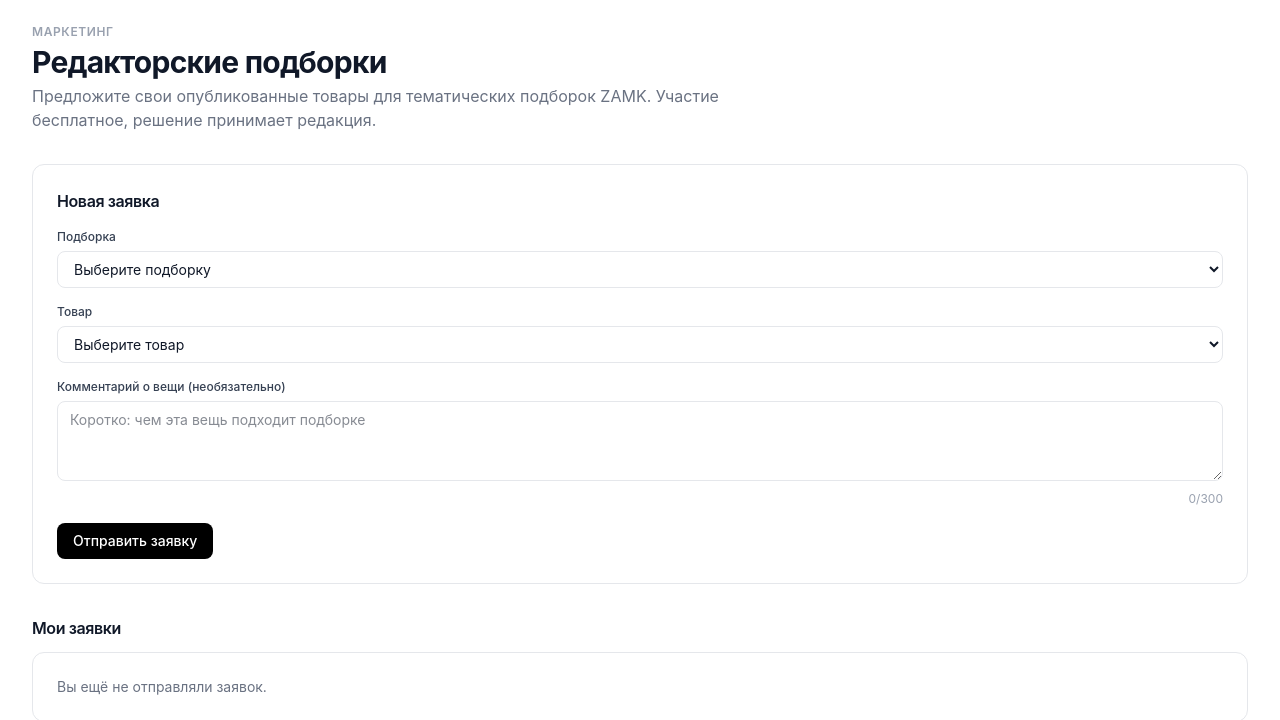
Scenario: SellerCollections › shows the server error (e.g. duplicate) and keeps the form
The width and height of the screenshot is (1280, 720).
Select "Лето" in the dropdown labelled "Подборка". click: (640, 270)
box: [57,251,1223,288]
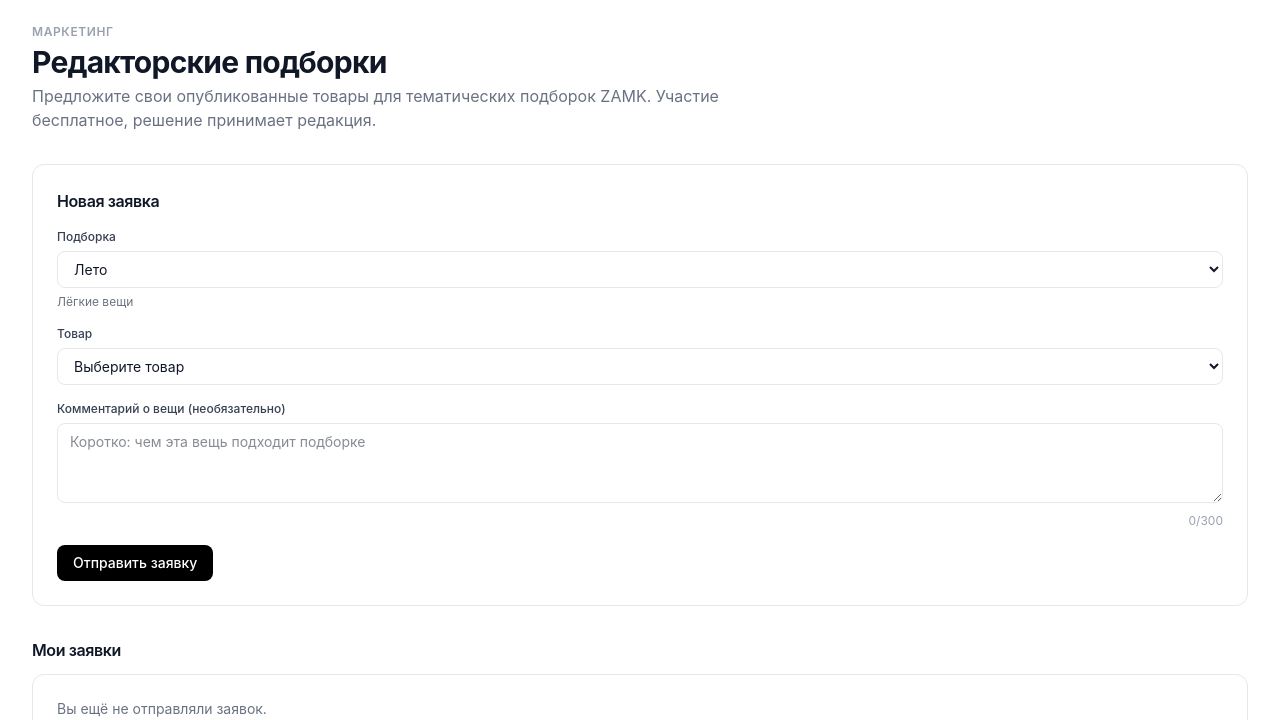
Select "Платье" in the dropdown labelled "Товар". click: (640, 366)
box: [57,348,1223,385]
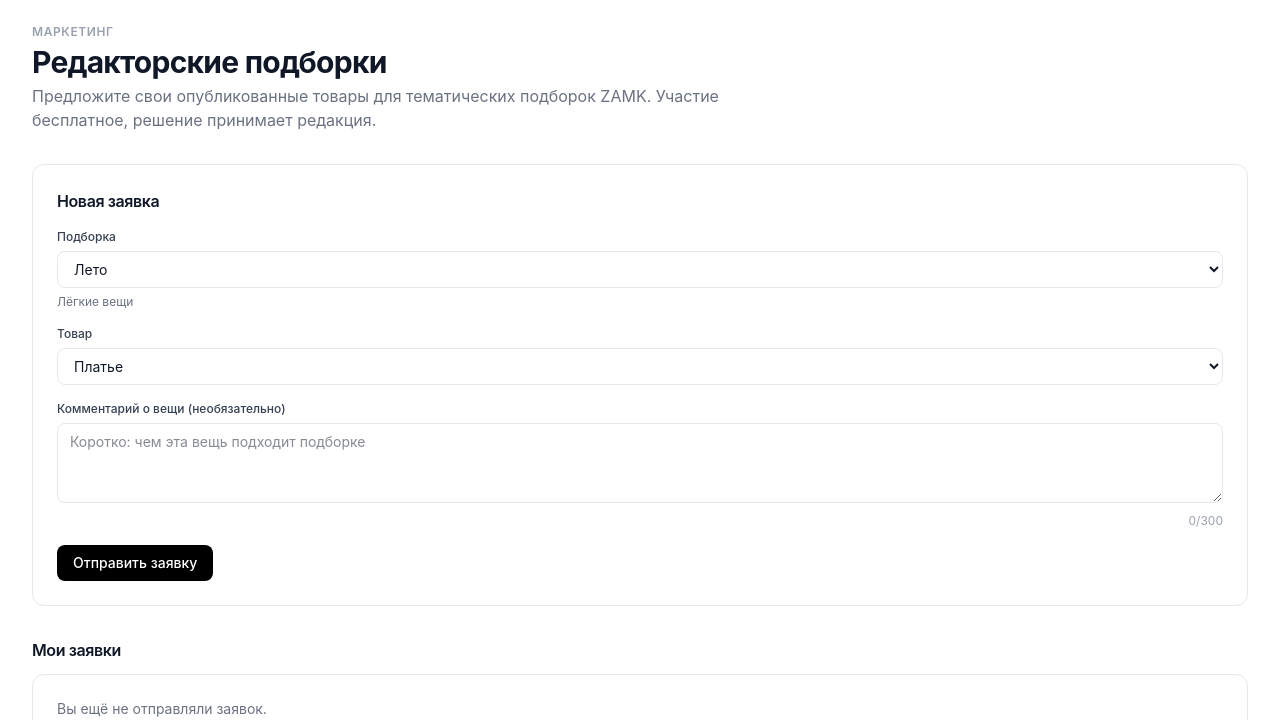
Click the button with test id "submission-submit". click: (135, 563)
box: [57,545,213,581]
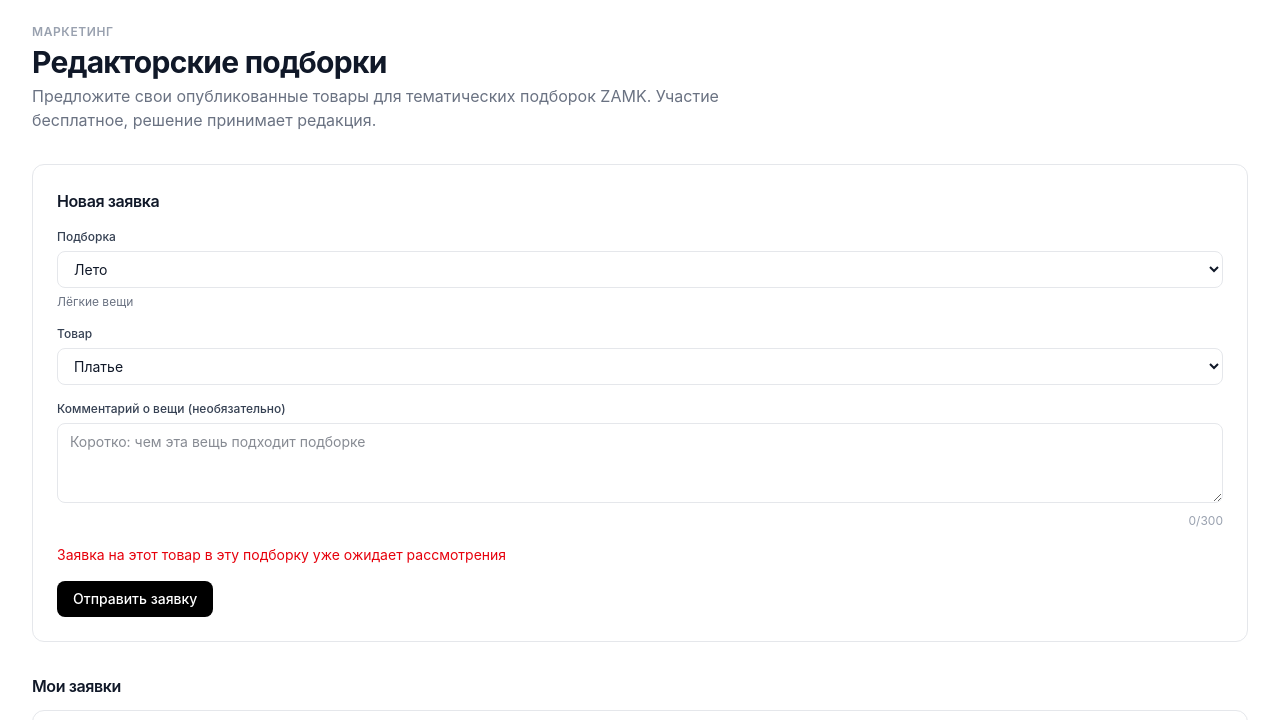
Expected: the message shows "уже ожидает", [57,546,506,563]
